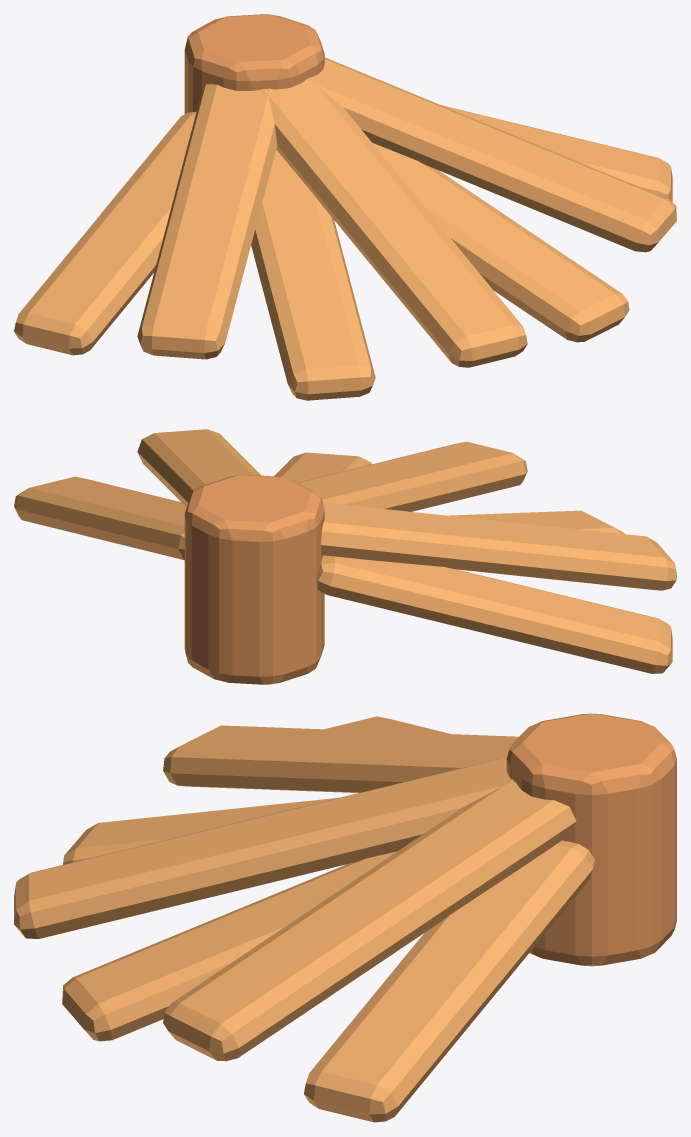
The model's file is spitter_gill.glb.
The picture shows the model from 3 angles, top to bottom: view 1: azimuth 30°, elevation 25°; view 2: azimuth 150°, elevation 25°; view 3: azimuth 270°, elevation 25°; orthographic projection. The views are drawn at different scales.
Visible parts, largest first — view 1: model; view 2: model; view 3: model.
Boxes of the visible parts, bbox=[...] form: model: bbox=[14, 14, 676, 400]; model: bbox=[14, 429, 676, 684]; model: bbox=[14, 713, 676, 1122].
Bounding box in the file's own units: 0.2534 × 0.0643 × 0.186.
